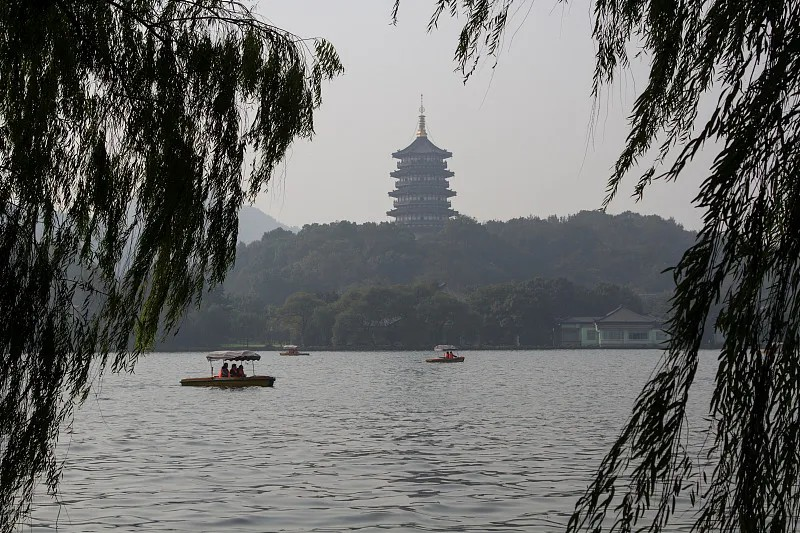Leifeng: (387, 90, 459, 227)
